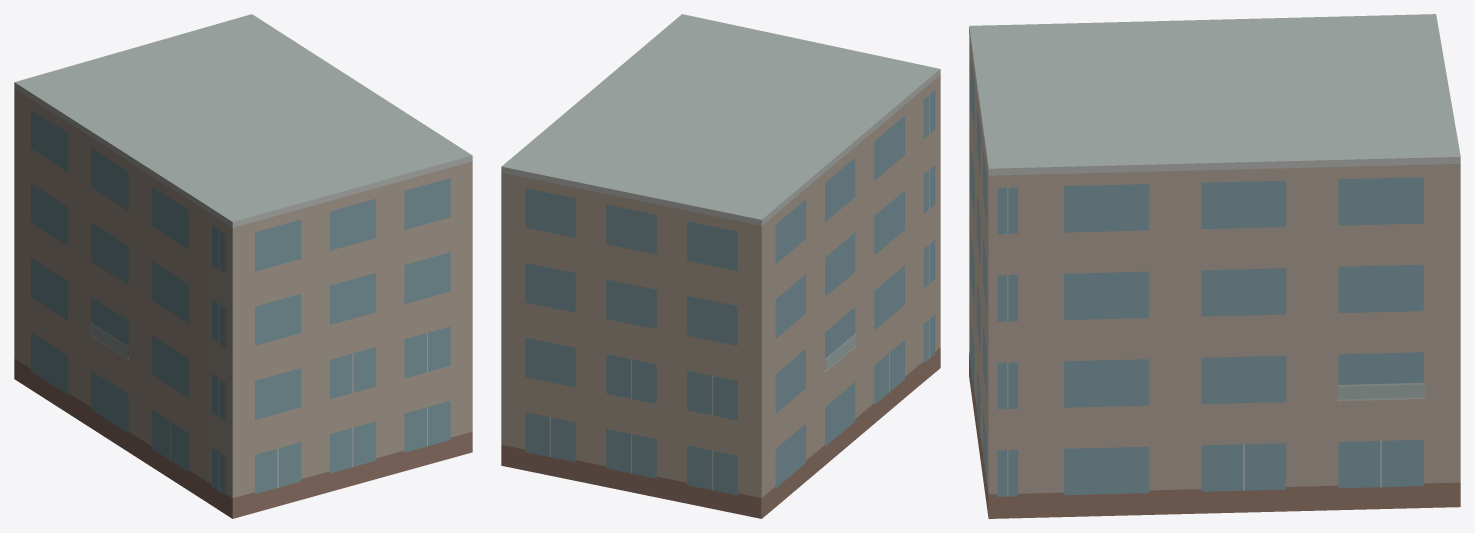
File: survey-upis-32775466.glb
3 views of the same model, side by side, from view 1: azimuth 30°, elevation 25°; view 2: azimuth 150°, elevation 25°; view 3: azimuth 270°, elevation 25° (orthographic). The views are drawn at different scales.
Parts seen in each view (by area): view 1: survey-upis-32775466.tmp; view 2: survey-upis-32775466.tmp; view 3: survey-upis-32775466.tmp.
Part boxes in pixels (box(x1,y1,x2,y2)): survey-upis-32775466.tmp: box(14, 14, 472, 518); survey-upis-32775466.tmp: box(501, 14, 940, 518); survey-upis-32775466.tmp: box(969, 14, 1460, 518).
Size of the model in its own units: 11.56 by 12.2 by 15.53.
